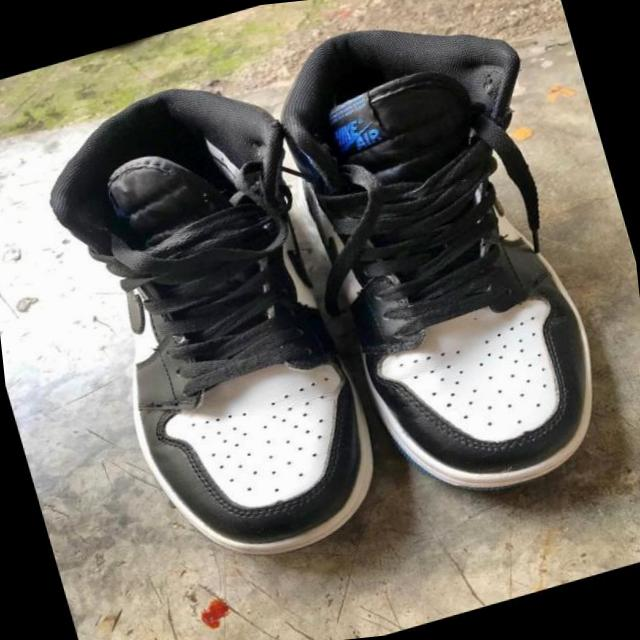nike_fake_jordan: (21, 48, 402, 596), (251, 0, 640, 534)
